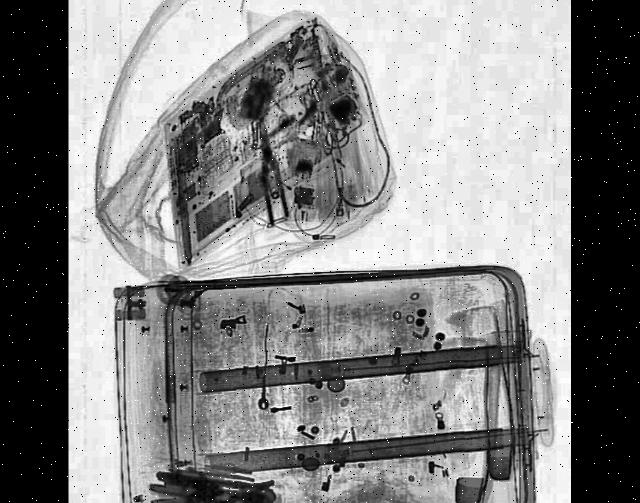Pliers: (252, 118, 290, 225)
